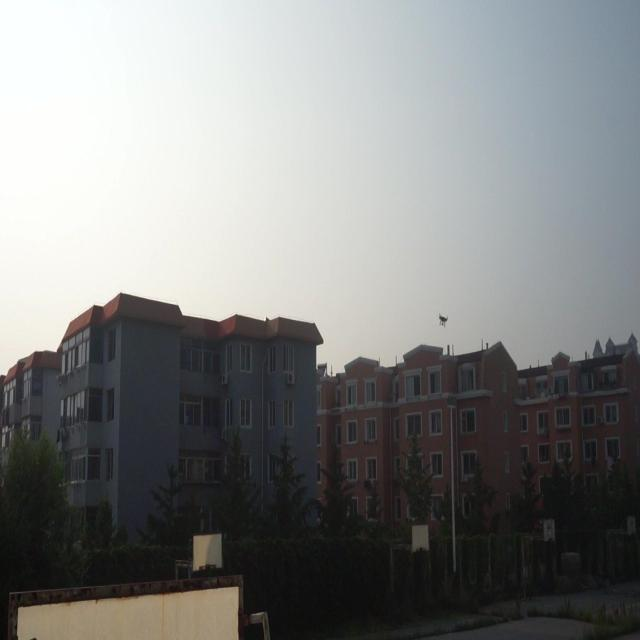drone: (438, 310, 449, 329)
